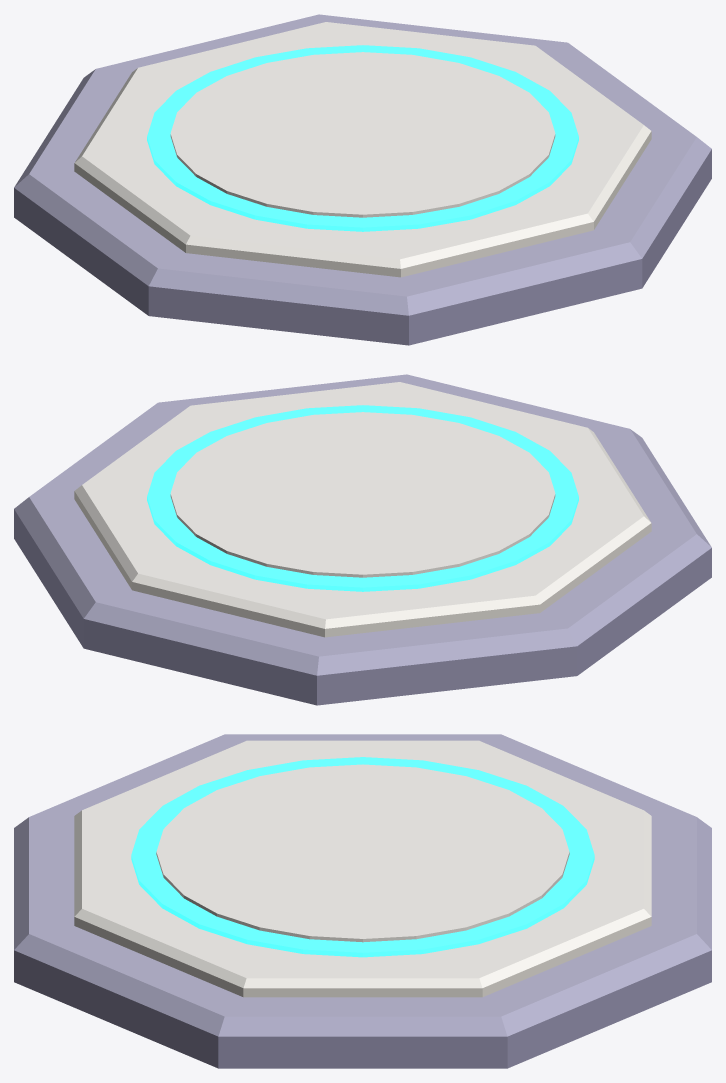
The model's file is SpawnPad.glb.
3 views of the same model, one above another, from view 1: azimuth 30°, elevation 25°; view 2: azimuth 150°, elevation 25°; view 3: azimuth 270°, elevation 25° (orthographic). The views are drawn at different scales.
Parts seen in each view (by area): view 1: SpawnPad, SpawnPad_Glow_acc7; view 2: SpawnPad, SpawnPad_Glow_acc7; view 3: SpawnPad, SpawnPad_Glow_acc7.
Part boxes in pixels (x1,y1,x2,y2): SpawnPad: (14,14,711,345); SpawnPad_Glow_acc7: (147,45,578,231); SpawnPad: (14,374,711,705); SpawnPad_Glow_acc7: (147,405,578,591); SpawnPad: (14,734,711,1068); SpawnPad_Glow_acc7: (131,757,594,957).
Bounding box in the file's own units: 13.86 × 1.52 × 13.86.
2 materials, 1 textured.
